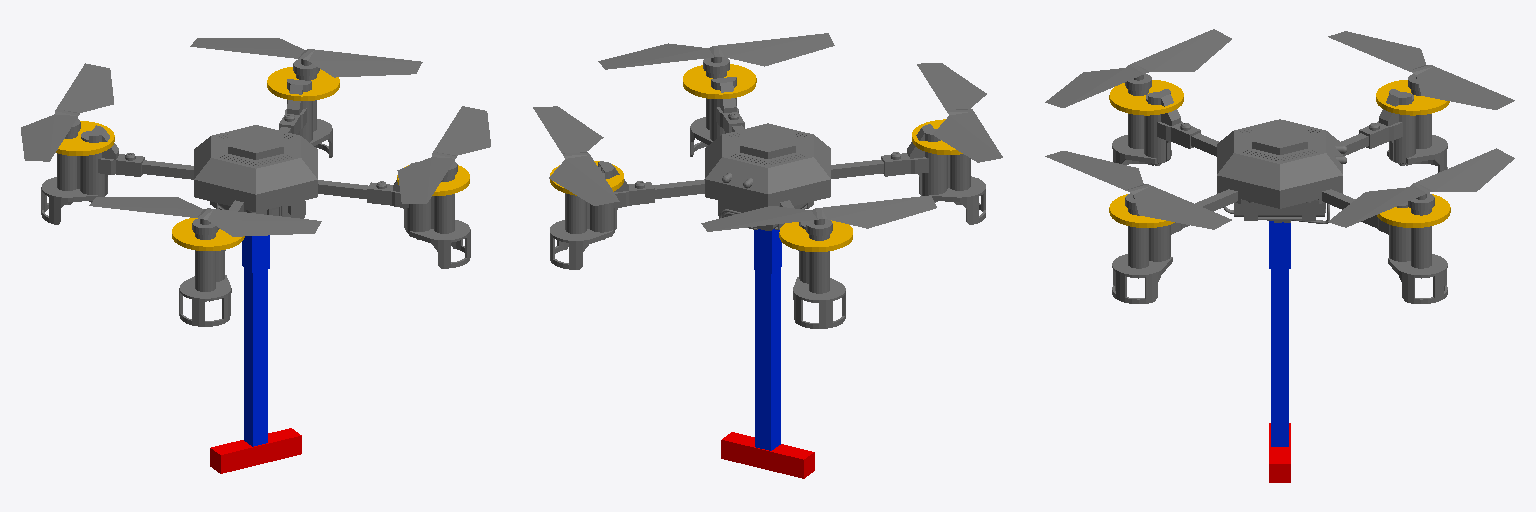
URDF robot description (aerial_robot):
<robot name="aerial_robot">

  <material name="black">
    <color rgba="0.02 0.02 0.02 1"/>
  </material>

  <material name="blue">
    <color rgba="0.0 0.2 1.0 1"/>
  </material>

  <material name="red">
    <color rgba="1.0 0.0 0.0 1"/>
  </material>

  <material name="yellow">
    <color rgba="1.0 0.75 0.0 1"/>
  </material>

  <material name="gray">
    <color rgba="0.5 0.5 0.5 1"/>
  </material>

  <link name="base_link">
    <inertial>
      <origin xyz="0 0 0" rpy="0 0 0"/>
      <mass value="2.4"/>
      <inertia
        ixx="0.12" ixy="0.0" ixz="0.0"
        iyy="0.12" iyz="0.0"
        izz="0.20"/>
    </inertial>

    <visual>
      <origin xyz="0 0 0" rpy="1.5708 0 0"/>
      <geometry>
        <mesh filename="package://aerial_grasping_description/meshes/droneModel_binary.stl"
              scale="0.005 0.005 0.005"/>
      </geometry>
      <material name="gray"/>
    </visual>

    <collision>
      <origin xyz="0 0 0" rpy="0 0 0"/>
      <geometry>
        <box size="0.45 0.45 0.08"/>
      </geometry>
    </collision>
  </link>

  <link name="rotor_1_link">
    <inertial>
      <origin xyz="0 0 0" rpy="0 0 0"/>
      <mass value="0.03"/>
      <inertia
        ixx="0.00002" ixy="0.0" ixz="0.0"
        iyy="0.00002" iyz="0.0"
        izz="0.00004"/>
    </inertial>

    <visual>
      <origin xyz="0 0 0" rpy="0 0 0"/>
      <geometry>
        <cylinder radius="0.07" length="0.01"/>
      </geometry>
      <material name="yellow"/>
    </visual>

    <collision>
      <origin xyz="0 0 0" rpy="0 0 0"/>
      <geometry>
        <cylinder radius="0.07" length="0.01"/>
      </geometry>
    </collision>
  </link>

  <joint name="base_to_rotor_1" type="fixed">
    <parent link="base_link"/>
    <child link="rotor_1_link"/>
    <origin xyz="0.25 0.25 0.05" rpy="0 0 0"/>
  </joint>

  <link name="rotor_2_link">
    <inertial>
      <origin xyz="0 0 0" rpy="0 0 0"/>
      <mass value="0.03"/>
      <inertia
        ixx="0.00002" ixy="0.0" ixz="0.0"
        iyy="0.00002" iyz="0.0"
        izz="0.00004"/>
    </inertial>

    <visual>
      <origin xyz="0 0 0" rpy="0 0 0"/>
      <geometry>
        <cylinder radius="0.07" length="0.01"/>
      </geometry>
      <material name="yellow"/>
    </visual>

    <collision>
      <origin xyz="0 0 0" rpy="0 0 0"/>
      <geometry>
        <cylinder radius="0.07" length="0.01"/>
      </geometry>
    </collision>
  </link>

  <joint name="base_to_rotor_2" type="fixed">
    <parent link="base_link"/>
    <child link="rotor_2_link"/>
    <origin xyz="-0.25 0.25 0.05" rpy="0 0 0"/>
  </joint>

  <link name="rotor_3_link">
    <inertial>
      <origin xyz="0 0 0" rpy="0 0 0"/>
      <mass value="0.03"/>
      <inertia
        ixx="0.00002" ixy="0.0" ixz="0.0"
        iyy="0.00002" iyz="0.0"
        izz="0.00004"/>
    </inertial>

    <visual>
      <origin xyz="0 0 0" rpy="0 0 0"/>
      <geometry>
        <cylinder radius="0.07" length="0.01"/>
      </geometry>
      <material name="yellow"/>
    </visual>

    <collision>
      <origin xyz="0 0 0" rpy="0 0 0"/>
      <geometry>
        <cylinder radius="0.07" length="0.01"/>
      </geometry>
    </collision>
  </link>

  <joint name="base_to_rotor_3" type="fixed">
    <parent link="base_link"/>
    <child link="rotor_3_link"/>
    <origin xyz="-0.25 -0.25 0.05" rpy="0 0 0"/>
  </joint>

  <link name="rotor_4_link">
    <inertial>
      <origin xyz="0 0 0" rpy="0 0 0"/>
      <mass value="0.03"/>
      <inertia
        ixx="0.00002" ixy="0.0" ixz="0.0"
        iyy="0.00002" iyz="0.0"
        izz="0.00004"/>
    </inertial>

    <visual>
      <origin xyz="0 0 0" rpy="0 0 0"/>
      <geometry>
        <cylinder radius="0.07" length="0.01"/>
      </geometry>
      <material name="yellow"/>
    </visual>

    <collision>
      <origin xyz="0 0 0" rpy="0 0 0"/>
      <geometry>
        <cylinder radius="0.07" length="0.01"/>
      </geometry>
    </collision>
  </link>

  <joint name="base_to_rotor_4" type="fixed">
    <parent link="base_link"/>
    <child link="rotor_4_link"/>
    <origin xyz="0.25 -0.25 0.05" rpy="0 0 0"/>
  </joint>

  <joint name="joint1" type="revolute">
    <parent link="base_link"/>
    <child link="link1"/>
    <origin xyz="0 0 -0.08" rpy="0 0 0"/>
    <axis xyz="0 1 0"/>
    <limit lower="-1.57" upper="1.57" effort="20.0" velocity="2.0"/>
    <dynamics damping="0.2" friction="0.05"/>
  </joint>

  <link name="link1">
    <inertial>
      <origin xyz="0 0 -0.05" rpy="0 0 0"/>
      <mass value="0.15"/>
      <inertia
        ixx="0.0010" ixy="0.0" ixz="0.0"
        iyy="0.0010" iyz="0.0"
        izz="0.0005"/>
    </inertial>

    <visual>
      <origin xyz="0 0 -0.05" rpy="0 0 0"/>
      <geometry>
        <box size="0.04 0.04 0.10"/>
      </geometry>
      <material name="blue"/>
    </visual>

    <collision>
      <origin xyz="0 0 -0.05" rpy="0 0 0"/>
      <geometry>
        <box size="0.04 0.04 0.10"/>
      </geometry>
    </collision>
  </link>

  <joint name="joint2" type="revolute">
    <parent link="link1"/>
    <child link="link2"/>
    <origin xyz="0 0 -0.10" rpy="0 0 0"/>
    <axis xyz="0 1 0"/>
    <limit lower="-1.57" upper="1.57" effort="20.0" velocity="2.0"/>
    <dynamics damping="0.2" friction="0.05"/>
  </joint>

  <link name="link2">
    <inertial>
      <origin xyz="0 0 -0.185" rpy="0 0 0"/>
      <mass value="0.29"/>
      <inertia
        ixx="0.0060" ixy="0.0" ixz="0.0"
        iyy="0.0060" iyz="0.0"
        izz="0.0010"/>
    </inertial>

    <visual>
      <origin xyz="0 0 -0.185" rpy="0 0 0"/>
      <geometry>
        <box size="0.035 0.035 0.37"/>
      </geometry>
      <material name="blue"/>
    </visual>

    <collision>
      <origin xyz="0 0 -0.185" rpy="0 0 0"/>
      <geometry>
        <box size="0.035 0.035 0.37"/>
      </geometry>
    </collision>
  </link>

  <joint name="gripper_joint" type="fixed">
    <parent link="link2"/>
    <child link="gripper"/>
    <origin xyz="0 0 -0.39" rpy="0 0 0"/>
  </joint>

  <gazebo reference="gripper_joint">
    <preserveFixedJoint>true</preserveFixedJoint>
  </gazebo>

  <link name="gripper">
    <inertial>
      <origin xyz="0 0 0" rpy="0 0 0"/>
      <mass value="0.10"/>
      <inertia
        ixx="0.0010" ixy="0.0" ixz="0.0"
        iyy="0.0010" iyz="0.0"
        izz="0.0010"/>
    </inertial>

    <visual>
      <origin xyz="0 0 0" rpy="0 0 0"/>
      <geometry>
        <box size="0.18 0.04 0.04"/>
      </geometry>
      <material name="red"/>
    </visual>

    <collision>
      <origin xyz="0 0 0" rpy="0 0 0"/>
      <geometry>
        <box size="0.18 0.04 0.04"/>
      </geometry>
    </collision>
  </link>

  <ros2_control name="GazeboSystem" type="system">
    <hardware>
      <plugin>gazebo_ros2_control/GazeboSystem</plugin>
    </hardware>

    <joint name="joint1">
      <command_interface name="effort">
        <param name="min">-20</param>
        <param name="max">20</param>
      </command_interface>
      <state_interface name="position"/>
      <state_interface name="velocity"/>
      <state_interface name="effort"/>
    </joint>

    <joint name="joint2">
      <command_interface name="effort">
        <param name="min">-20</param>
        <param name="max">20</param>
      </command_interface>
      <state_interface name="position"/>
      <state_interface name="velocity"/>
      <state_interface name="effort"/>
    </joint>
  </ros2_control>

  <gazebo>
    <plugin
      name="motor_thrust_plugin"
      filename="/home/dario/Desktop/Aerial-Grasping---Adaptive-Control/ros2_ws/install/aerial_grasping_gazebo/lib/libmotor_thrust_plugin.so">
      <link_name>base_link</link_name>
    </plugin>
  </gazebo>

  <gazebo>
    <plugin name="p3d_base_controller" filename="libgazebo_ros_p3d.so">
      <ros>
        <namespace>/</namespace>
        <remapping>odom:=/drone/odom</remapping>
      </ros>
      <body_name>base_link</body_name>
      <frame_name>world</frame_name>
      <update_rate>100.0</update_rate>
      <xyz_offset>0 0 0</xyz_offset>
      <rpy_offset>0 0 0</rpy_offset>
      <gaussian_noise>0.0</gaussian_noise>
    </plugin>
  </gazebo>

  <gazebo>
    <plugin name="gazebo_ros2_control" filename="libgazebo_ros2_control.so">
      <parameters>/home/dario/Desktop/Aerial-Grasping---Adaptive-Control/ros2_ws/src/aerial_grasping_description/config/controllers.yaml</parameters>
    </plugin>
  </gazebo>

  <gazebo>
    <plugin
      name="grasp_attach_plugin"
      filename="/home/dario/Desktop/Aerial-Grasping---Adaptive-Control/ros2_ws/install/aerial_grasping_gazebo/lib/libgrasp_attach_plugin.so">

      <gripper_link>gripper</gripper_link>
      <object_model>grasp_object</object_model>
      <object_link>object_link</object_link>

      <attach_distance>0.2</attach_distance>
      <auto_attach>true</auto_attach>

      <!-- Utile per debug/reset -->
      <detach_on_command>true</detach_on_command>

    </plugin>
  </gazebo>

</robot>

--- Render facts (derived) ---
The picture shows the robot from 3 angles, left to right: view 1: azimuth 30°, elevation 25°; view 2: azimuth 150°, elevation 25°; view 3: azimuth 270°, elevation 25°; orthographic projection.
Robot: aerial_robot — 8 links, 7 joints (2 revolute, 5 fixed); root link base_link; default pose: every joint at zero.
Visible links, largest first — view 1: base_link, link2, gripper, rotor_1_link, rotor_3_link, rotor_2_link, link1, rotor_4_link; view 2: base_link, link2, gripper, rotor_4_link, rotor_2_link, link1, rotor_3_link; view 3: base_link, link2, rotor_3_link, rotor_2_link, rotor_1_link, link1, gripper, rotor_4_link.
Boxes of the visible links, x1,y1,x2,y2 form: base_link: (21,38,490,326); link2: (244,267,267,446); gripper: (210,428,301,473); rotor_1_link: (267,67,339,100); rotor_3_link: (172,218,244,250); rotor_2_link: (56,121,114,155); link1: (242,235,269,272); rotor_4_link: (397,165,469,195); base_link: (533,33,1002,328); link2: (755,268,780,450); gripper: (721,432,814,478); rotor_4_link: (683,64,756,98); rotor_2_link: (779,220,852,251); link1: (754,229,781,273); rotor_3_link: (912,119,962,154); base_link: (1045,29,1514,303); link2: (1271,269,1288,446); rotor_3_link: (1109,80,1183,115); rotor_2_link: (1376,80,1449,115); rotor_1_link: (1377,194,1450,227); link1: (1269,221,1290,268); gripper: (1269,423,1290,482); rotor_4_link: (1109,194,1174,227).
Bounding box of the posed robot: 0.8839 × 0.8839 × 0.6925 m (x, y, z).
Meshes: 1 distinct files referenced, 1 mesh visuals loaded (1 binary STL).
